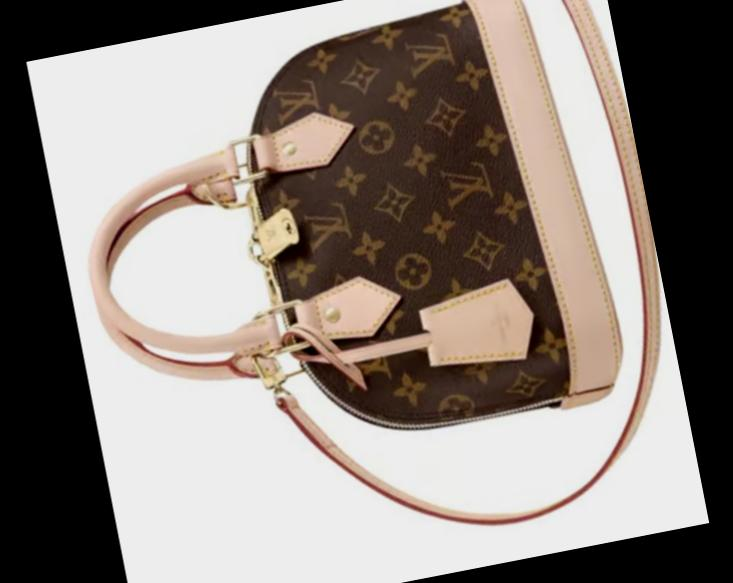LOUIS-VUITTON: (223, 0, 577, 456)
